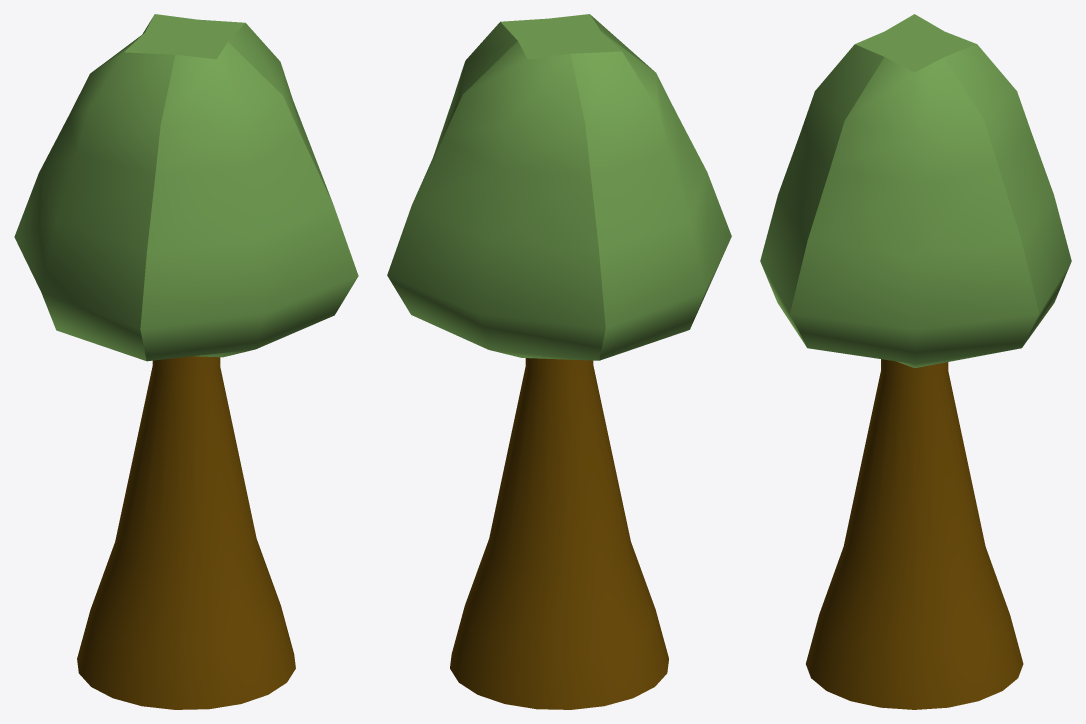
File: tree.fbx
3 renders of one model, left to right at view 1: azimuth 30°, elevation 25°; view 2: azimuth 150°, elevation 25°; view 3: azimuth 270°, elevation 25°, orthographic.
Visible parts, largest first — view 1: tree; view 2: tree; view 3: tree.
Part boxes in pixels (x1,y1,x2,y2): tree: (14,14,358,709); tree: (387,14,731,709); tree: (760,14,1071,709).
Size of the model in its own units: 203 by 422 by 192.
